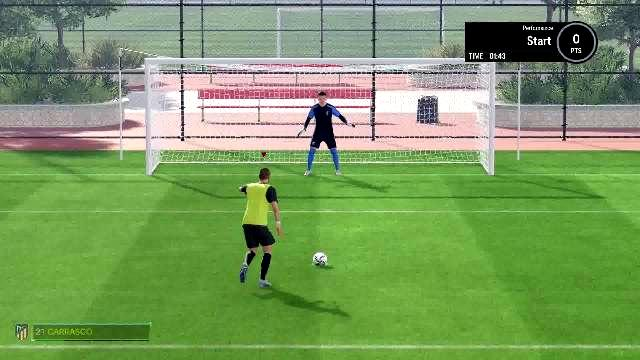bottom-left: (147, 119, 260, 175)
bottom-right: (374, 119, 488, 175)
center-down: (262, 118, 374, 176)
center-up: (260, 62, 374, 118)
football: (310, 250, 330, 268)
goalkeeper: (294, 90, 348, 176)
player: (228, 166, 296, 290)
top-left: (147, 62, 260, 118)
top-right: (374, 62, 488, 118)
